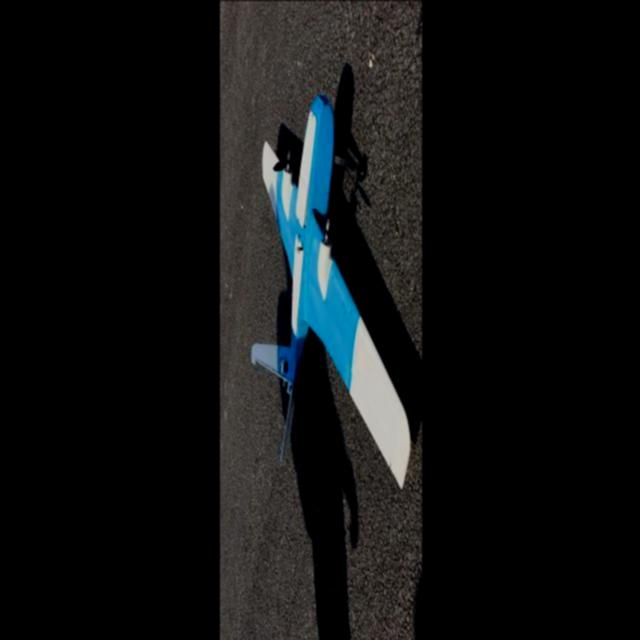plane: (247, 90, 412, 488)
